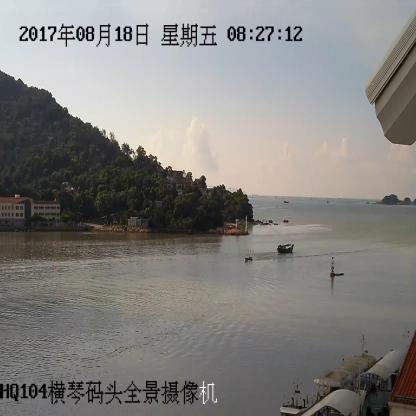Fishing Boat: (277, 243, 295, 253), (243, 250, 253, 262)
